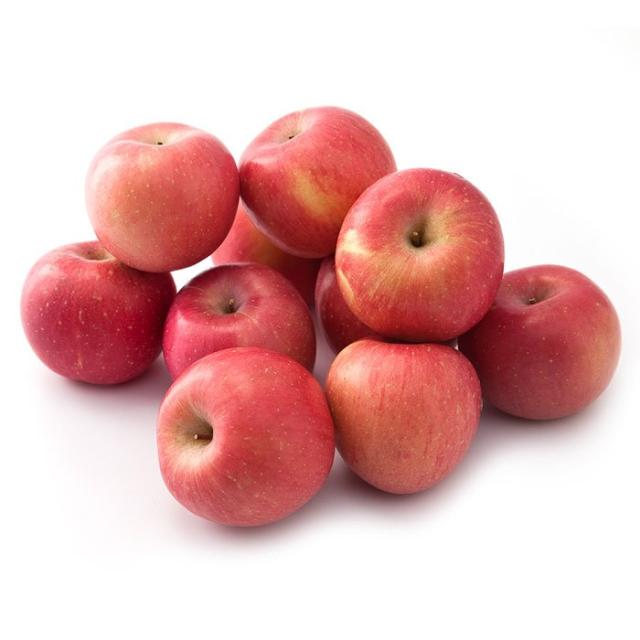Apple: (159, 345, 336, 529), (339, 165, 505, 340), (326, 332, 484, 497), (89, 123, 247, 275), (237, 108, 396, 257), (491, 258, 624, 428), (23, 238, 172, 386), (159, 253, 319, 379)
